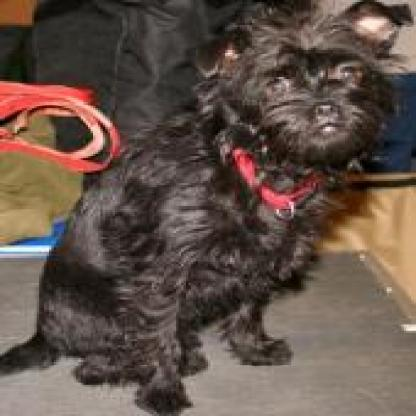affenpinscher: (0, 0, 411, 412)
